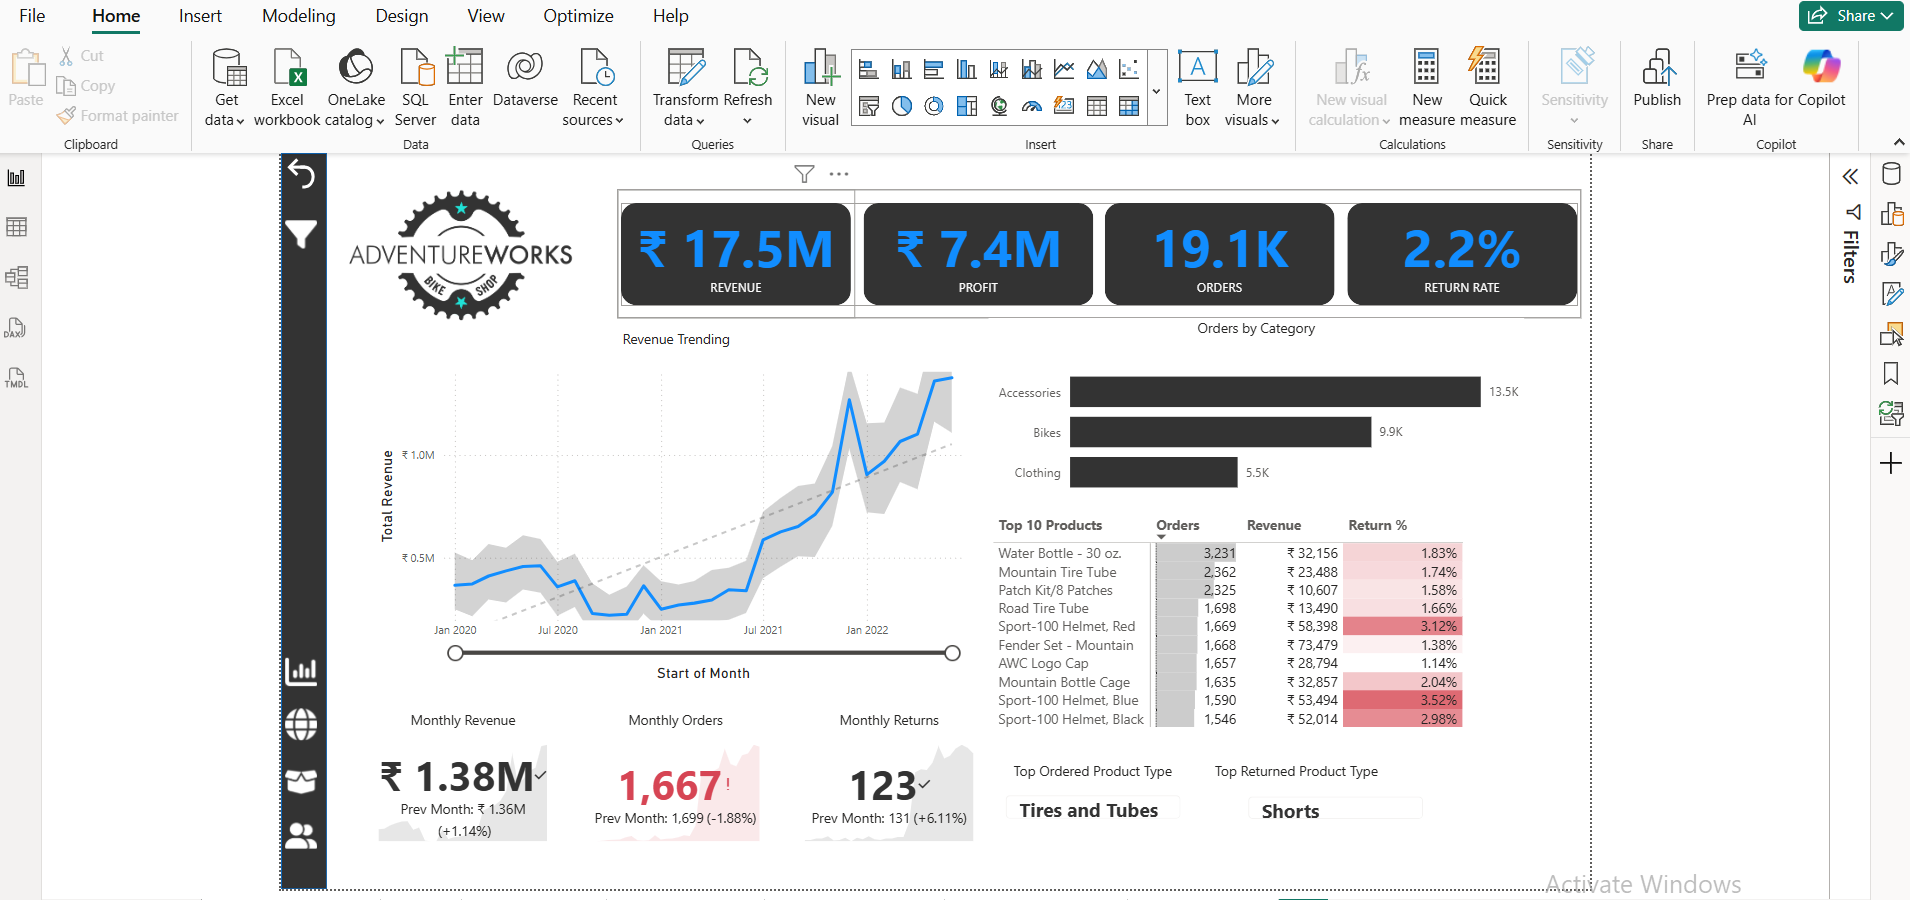

Layout of this report page (visuals, bound fields, positions):
{"tool":"powerbi","page":{"name":"Exec Dashboard","canvas":[1280,720],"ordinal":0},"visuals":[{"type":"image","title":"AW Logo","box":[43.1,26.4,267.3,146.2],"z":0},{"type":"card","fields":{"Values":["Measure Table.Total Revenue"]},"box":[328.4,36,232.5,125.8],"z":0,"group":"g2"},{"type":"group","id":"g1","title":"KPI Backgrounds","box":[332,49.2,935.7,100],"z":0,"group":"g3"},{"type":"shape","box":[332,49.2,225,100],"z":0,"group":"g1"},{"type":"actionButton","box":[0,487.8,45.5,39.6],"z":0,"group":"g4"},{"type":"shape","title":"Left Nav Background","box":[0,0,45,720.3],"z":1000},{"type":"group","id":"g2","title":"KPI Values","box":[328.4,36,943.2,125.8],"z":1000,"group":"g3"},{"type":"card","fields":{"Values":["Measure Table.Total Profit"]},"box":[565.3,36,232.5,125.8],"z":1000,"group":"g2"},{"type":"shape","box":[568.9,49.2,225,100],"z":1000,"group":"g1"},{"type":"actionButton","box":[0,539.3,45.5,39.6],"z":1000,"group":"g4"},{"type":"group","id":"g3","title":"KPIs","box":[328.4,36,943.2,125.8],"z":2000},{"type":"card","fields":{"Values":["Measure Table.Total Orders"]},"box":[802.2,36,232.5,125.8],"z":2000,"group":"g2"},{"type":"shape","box":[805.8,49.2,225,100],"z":2000,"group":"g1"},{"type":"actionButton","box":[0,595.1,45.5,39.6],"z":2000,"group":"g4"},{"type":"card","fields":{"Values":["Measure Table.Return Rate"]},"box":[1039.1,36,232.5,125.8],"z":3000,"group":"g2"},{"type":"shape","box":[1042.7,49.2,225,100],"z":3000,"group":"g1"},{"type":"lineChart","title":"Revenue Trending","fields":{"Category":["Calendar Lookup.Start of Month"],"Y":["Measure Table.Total Revenue"]},"box":[89.9,172.6,592.1,348.8],"z":3000},{"type":"actionButton","box":[0,648.1,45.5,39.6],"z":3000,"group":"g4"},{"type":"kpi","title":"Monthly Revenue","fields":{"Goal":["Measure Table.Previous Month Revenue"],"Indicator":["Measure Table.Total Revenue"],"TrendLine":["Calendar Lookup.Start of Month"]},"box":[89.9,545.3,175,133],"z":4000},{"type":"kpi","title":"Monthly Orders","fields":{"Goal":["Measure Table.Previous Month Orders"],"Indicator":["Measure Table.Total Orders"],"TrendLine":["Calendar Lookup.Start of Month"]},"box":[298.4,545.3,175,133],"z":5000},{"type":"kpi","title":"Monthly Returns","fields":{"Goal":["Measure Table.Previous Month Returns"],"Indicator":["Measure Table.Total Returns"],"TrendLine":["Calendar Lookup.Start of Month"]},"box":[507,545.3,175,133],"z":6000},{"type":"clusteredBarChart","title":"Orders by Category","fields":{"Category":["Product Categories Lookup.CategoryName"],"Y":["Measure Table.Total Orders"]},"box":[691.6,161.1,523.7,188.2],"z":7000},{"type":"pivotTable","fields":{"Rows":["Product Lookup.ProductName"],"Values":["Measure Table.Total Orders","Measure Table.Total Revenue","Measure Table.Return Rate"]},"box":[691.6,349.4,509.5,225.4],"z":8000},{"type":"cardVisual","fields":{"Data":["Min(Product Subcategories Lookup.SubcategoryName)"]},"box":[692.1,612,205.1,57.5],"z":9000},{"type":"cardVisual","fields":{"Data":["Min(Product Subcategories Lookup.SubcategoryName)"]},"box":[928.7,613.2,205.1,56.4],"z":10000},{"type":"textbox","box":[711.2,590.6,165.7,33.8],"z":11000},{"type":"textbox","box":[908.5,590.6,172.4,33.8],"z":12000},{"type":"actionButton","box":[0,0,45.5,39.8],"z":13000},{"type":"group","id":"g4","title":"Navigation Buttons","box":[0,487.8,45.5,199.9],"z":14000},{"type":"actionButton","box":[0,59.7,45.1,39.4],"z":15000}]}

Visuals, with their boxes on the page's 1280x720 design canvas (x1, y1, x2, y2). These are canvas units, not pixel positions in the 1910x900 screenshot, which may show the page scaled, cropped or inside an application window:
"AW Logo" image: [x1=43, y1=26, x2=310, y2=173]
card - Measure Table.Total Revenue: [x1=328, y1=36, x2=561, y2=162]
"KPI Backgrounds" group: [x1=332, y1=49, x2=1268, y2=149]
shape: [x1=332, y1=49, x2=557, y2=149]
actionButton: [x1=0, y1=488, x2=46, y2=527]
"Left Nav Background" shape: [x1=0, y1=0, x2=45, y2=720]
"KPI Values" group: [x1=328, y1=36, x2=1272, y2=162]
card - Measure Table.Total Profit: [x1=565, y1=36, x2=798, y2=162]
shape: [x1=569, y1=49, x2=794, y2=149]
actionButton: [x1=0, y1=539, x2=46, y2=579]
"KPIs" group: [x1=328, y1=36, x2=1272, y2=162]
card - Measure Table.Total Orders: [x1=802, y1=36, x2=1035, y2=162]
shape: [x1=806, y1=49, x2=1031, y2=149]
actionButton: [x1=0, y1=595, x2=46, y2=635]
card - Measure Table.Return Rate: [x1=1039, y1=36, x2=1272, y2=162]
shape: [x1=1043, y1=49, x2=1268, y2=149]
"Revenue Trending" lineChart: [x1=90, y1=173, x2=682, y2=521]
actionButton: [x1=0, y1=648, x2=46, y2=688]
"Monthly Revenue" kpi: [x1=90, y1=545, x2=265, y2=678]
"Monthly Orders" kpi: [x1=298, y1=545, x2=473, y2=678]
"Monthly Returns" kpi: [x1=507, y1=545, x2=682, y2=678]
"Orders by Category" clusteredBarChart: [x1=692, y1=161, x2=1215, y2=349]
pivotTable - Product Lookup.ProductName x Measure Table.Total Orders: [x1=692, y1=349, x2=1201, y2=575]
cardVisual - Min(Product Subcategories Lookup.SubcategoryName): [x1=692, y1=612, x2=897, y2=670]
cardVisual - Min(Product Subcategories Lookup.SubcategoryName): [x1=929, y1=613, x2=1134, y2=670]
textbox: [x1=711, y1=591, x2=877, y2=624]
textbox: [x1=908, y1=591, x2=1081, y2=624]
actionButton: [x1=0, y1=0, x2=46, y2=40]
"Navigation Buttons" group: [x1=0, y1=488, x2=46, y2=688]
actionButton: [x1=0, y1=60, x2=45, y2=99]
